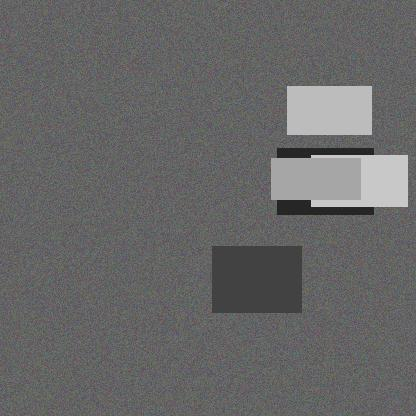occupied: (244, 310, 290, 353)
